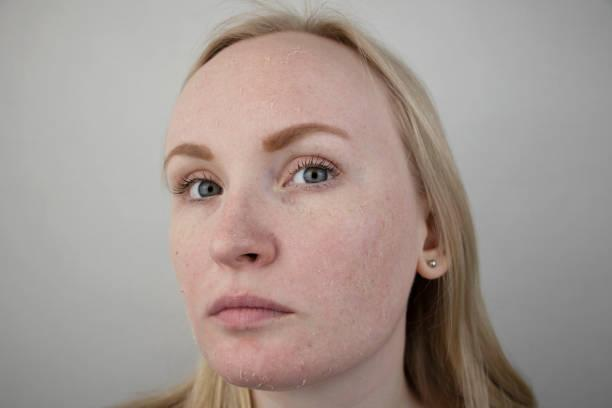Dry-Skin: (267, 189, 419, 318), (184, 54, 328, 125), (207, 338, 334, 391)
